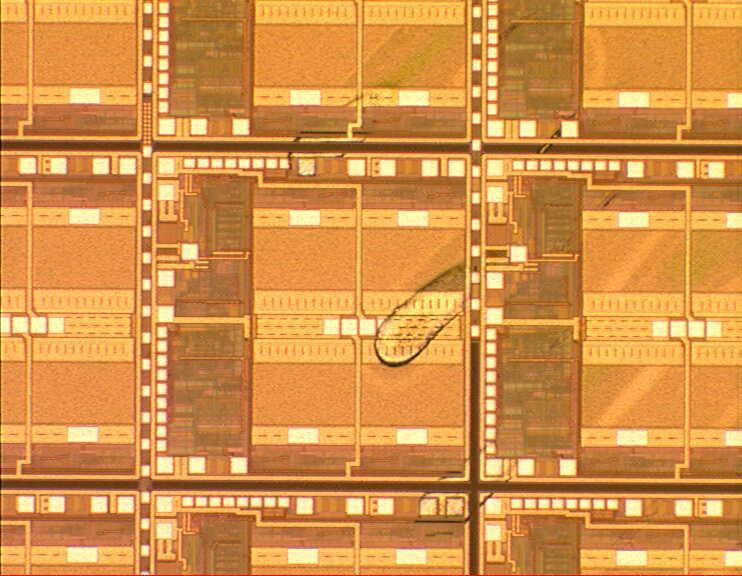COATING BAD: (270, 4, 742, 544)
